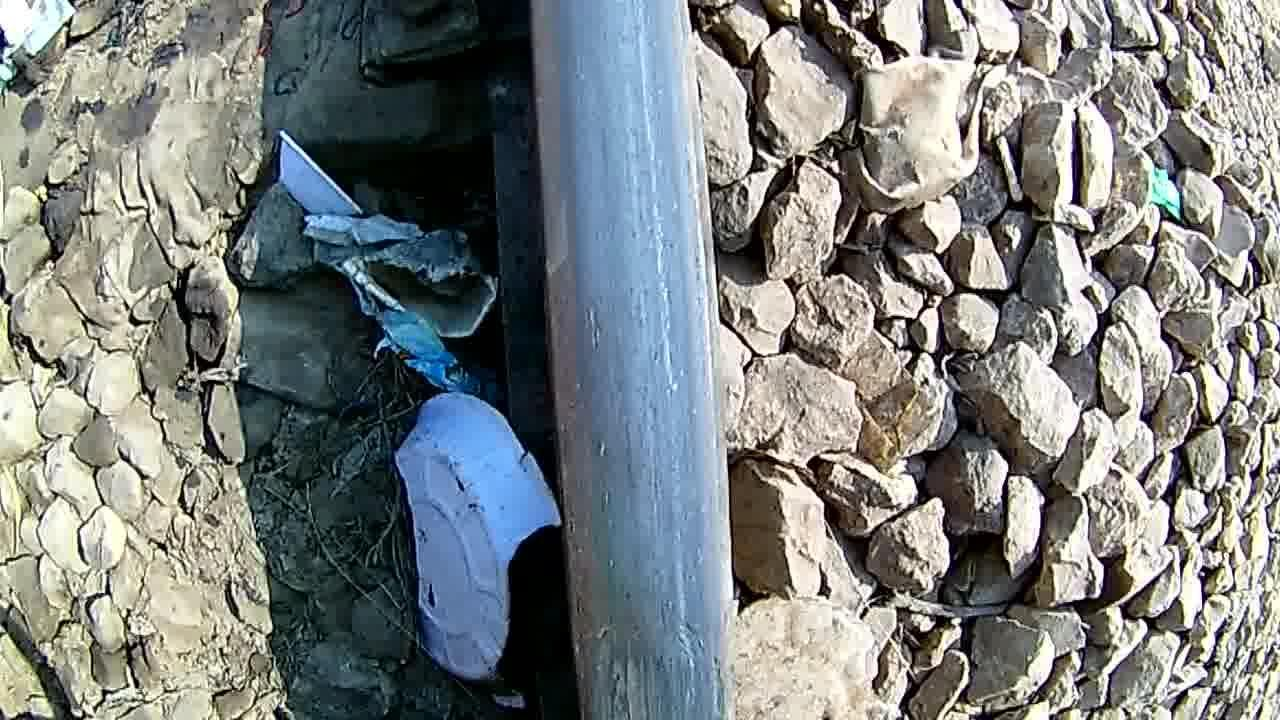crack: (556, 567, 754, 720)
